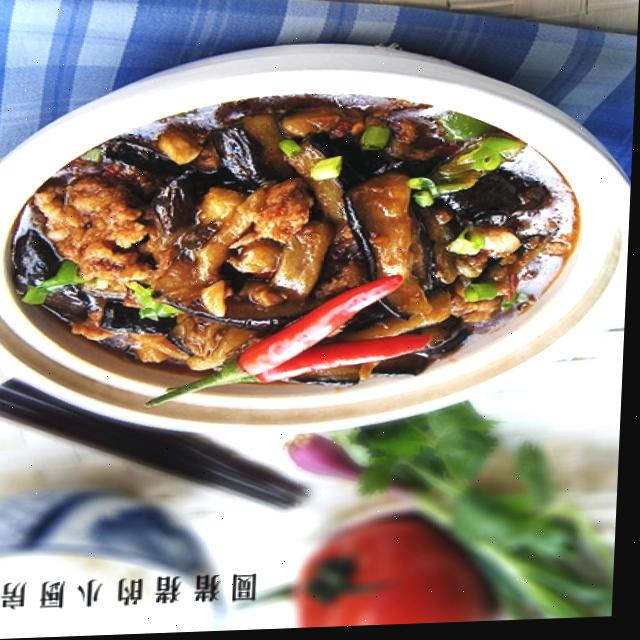鸡蛋料理: (0, 34, 629, 494)
